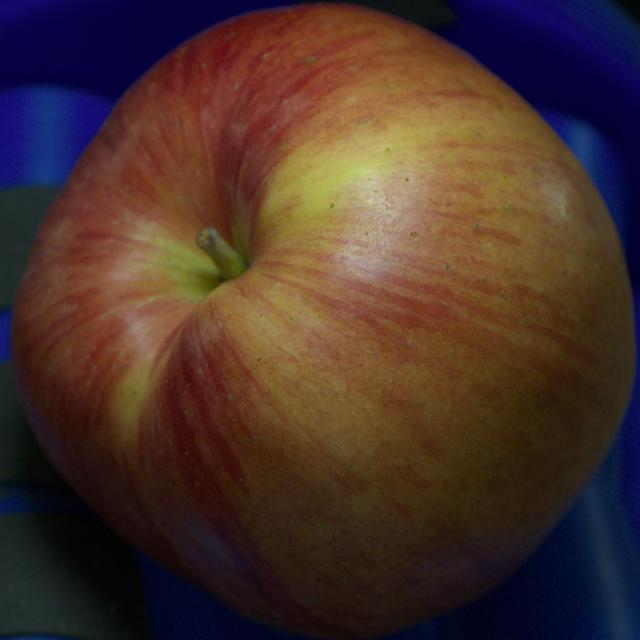apple: (12, 5, 634, 637)
